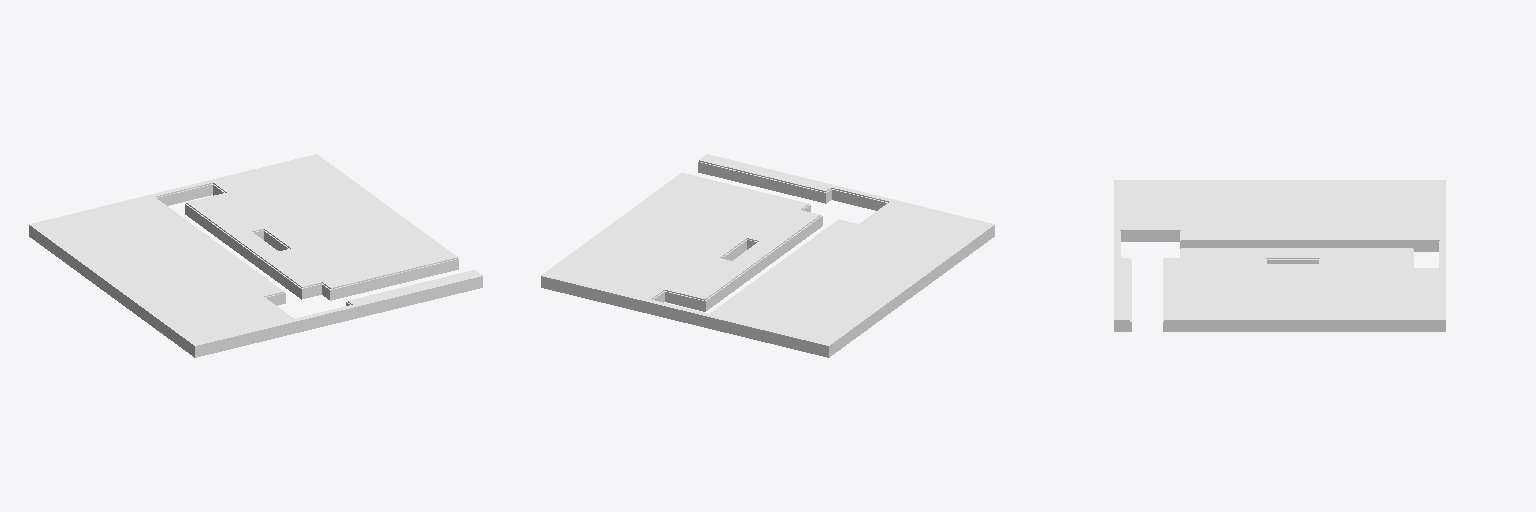
Rendered from stage5-1.obj.
3 views of the same model, side by side, from view 1: azimuth 30°, elevation 25°; view 2: azimuth 150°, elevation 25°; view 3: azimuth 270°, elevation 25° (orthographic).
Visible parts, largest first — view 1: Stage5-1; view 2: Stage5-1; view 3: Stage5-1.
Boxes of the visible parts, <box> form: Stage5-1: <box>29,154,482,357</box>; Stage5-1: <box>541,154,994,357</box>; Stage5-1: <box>1114,180,1445,331</box>.
Size of the model in its own units: 25.6 by 1 by 25.6.